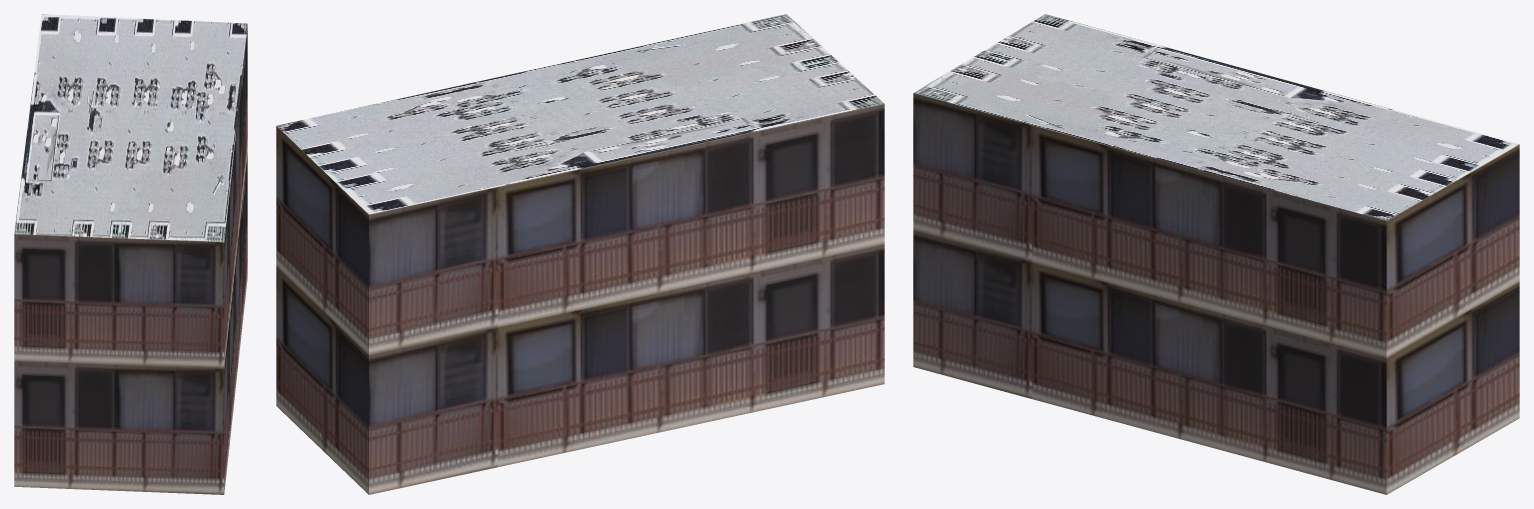
Rendered from ResTex__536.fbx.
3 renders of one model, left to right at view 1: azimuth 30°, elevation 25°; view 2: azimuth 150°, elevation 25°; view 3: azimuth 270°, elevation 25°, orthographic. The views are drawn at different scales.
Visible parts, largest first — view 1: CityEngineMaterial_6_m, CityEngineMaterial_8_m; view 2: CityEngineMaterial_6_m, CityEngineMaterial_8_m; view 3: CityEngineMaterial_6_m, CityEngineMaterial_8_m.
Part boxes in pixels (bbox=[...]): CityEngineMaterial_6_m: bbox=[14, 27, 247, 494]; CityEngineMaterial_8_m: bbox=[14, 14, 247, 242]; CityEngineMaterial_6_m: bbox=[276, 104, 884, 494]; CityEngineMaterial_8_m: bbox=[277, 14, 884, 214]; CityEngineMaterial_6_m: bbox=[913, 93, 1519, 494]; CityEngineMaterial_8_m: bbox=[914, 14, 1518, 220].
Bounding box in the file's own units: 9.71 × 6 × 12.03.
Materials: 2 (2 with a texture image).
